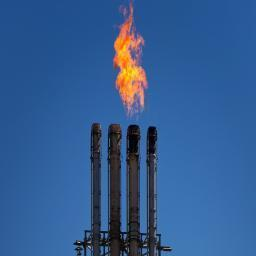fire: (113, 5, 148, 121)
